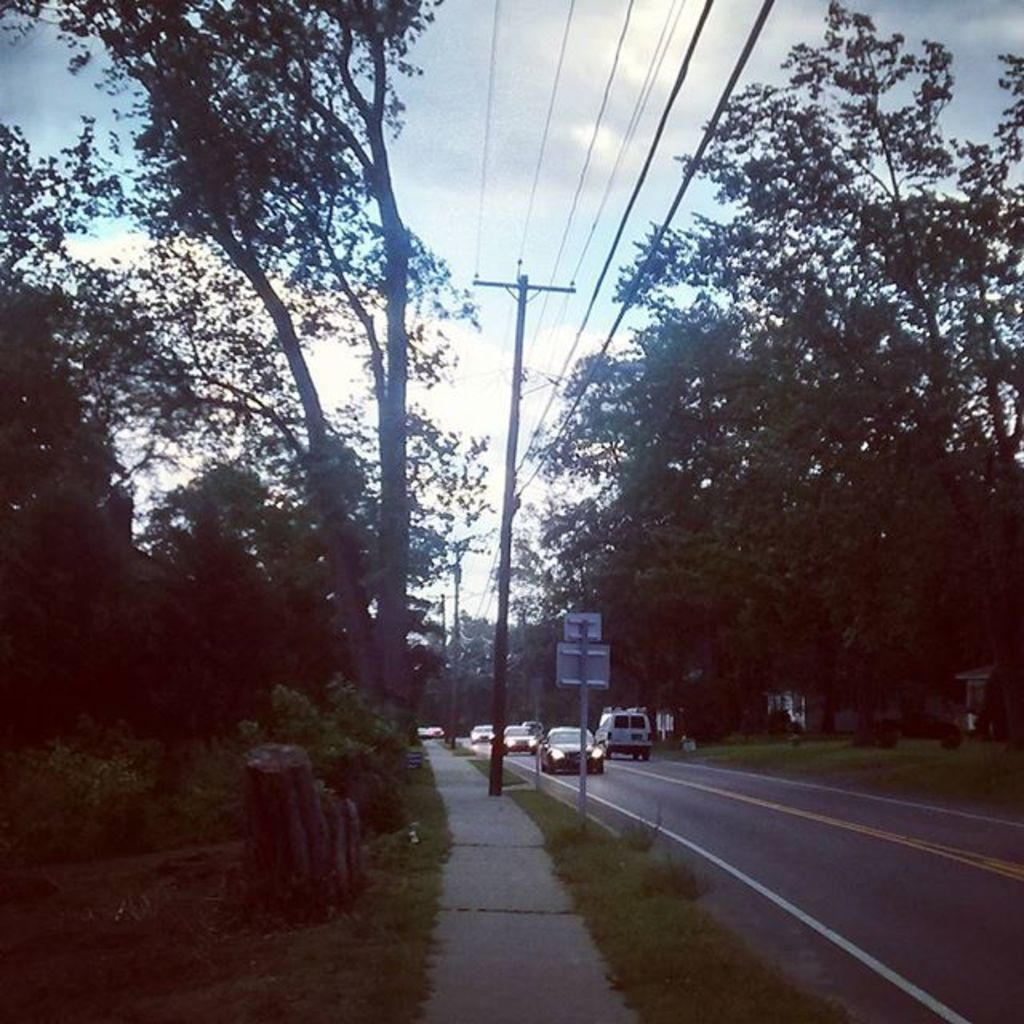Tree: (0, 0, 1022, 747), (0, 0, 508, 857)
